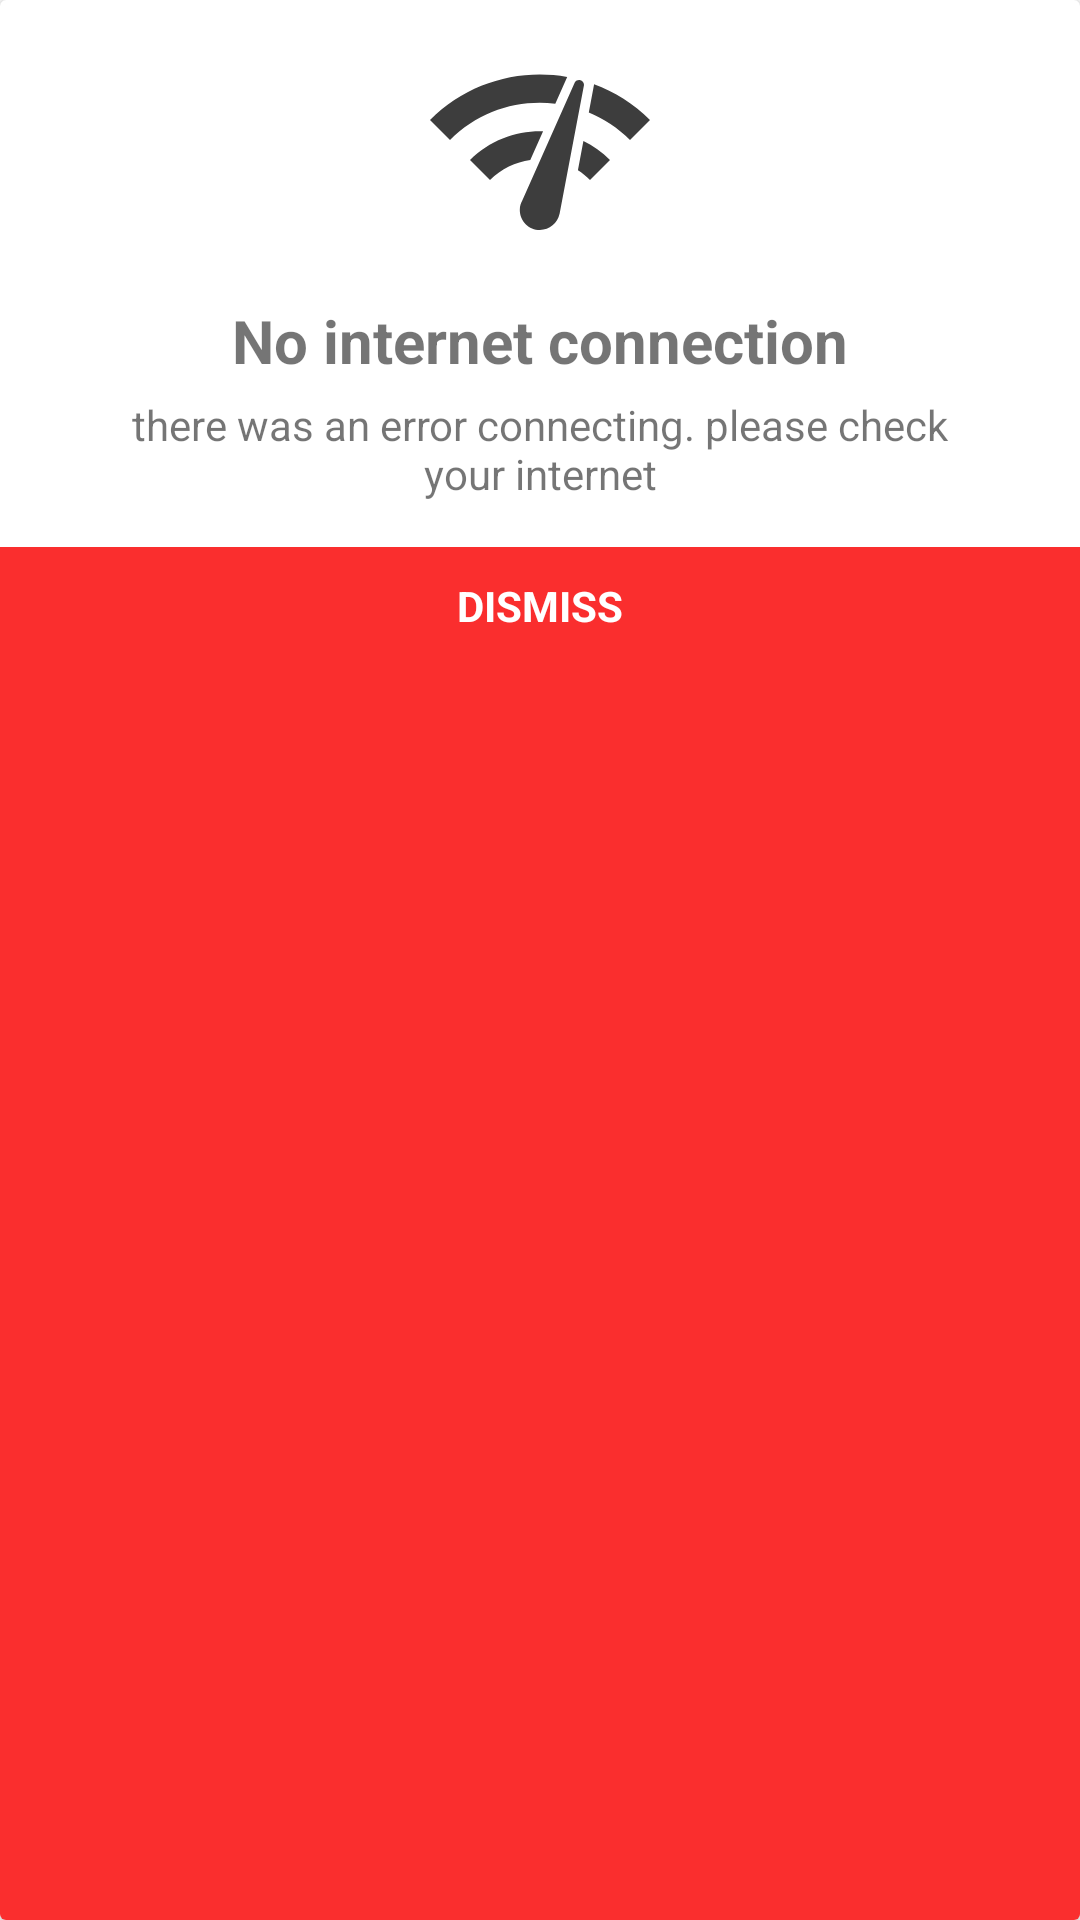

Named icons in this screenshot (1080w x 1920h) and their bounding boxes, (x1=x1, y1=y1, x2=x2, y2=y2):
network check: (x1=430, y1=74, x2=650, y2=230)
